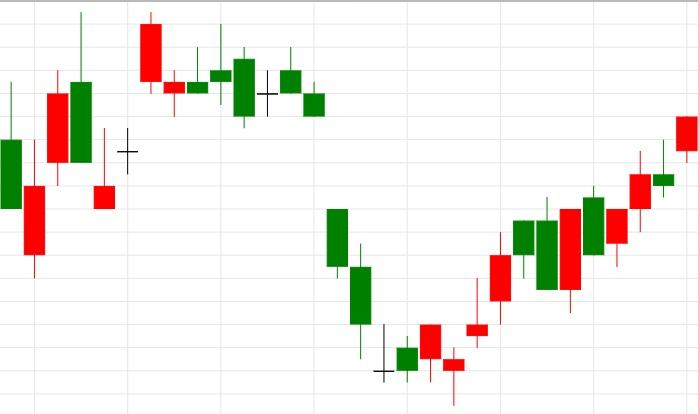inverse_hammer_rise: (46, 12, 116, 211)
